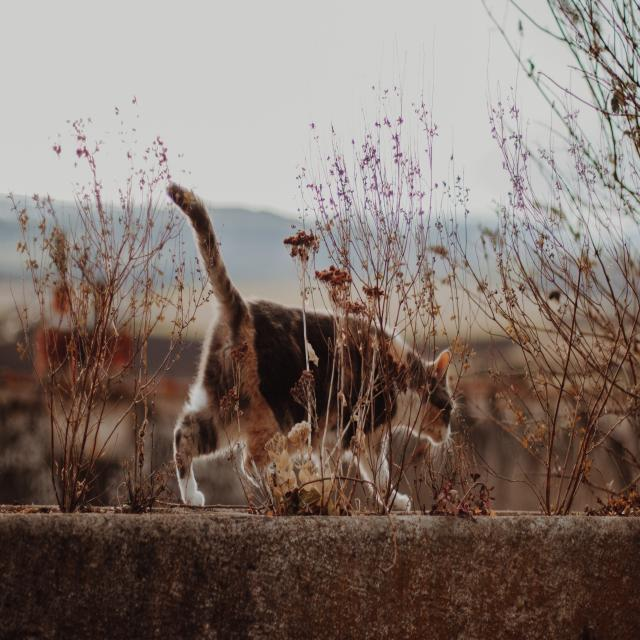cat: (150, 168, 477, 521)
